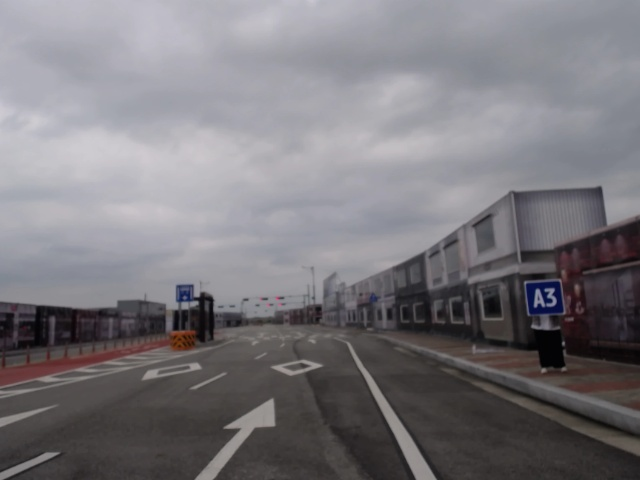delivery_a3: (525, 280, 565, 316)
